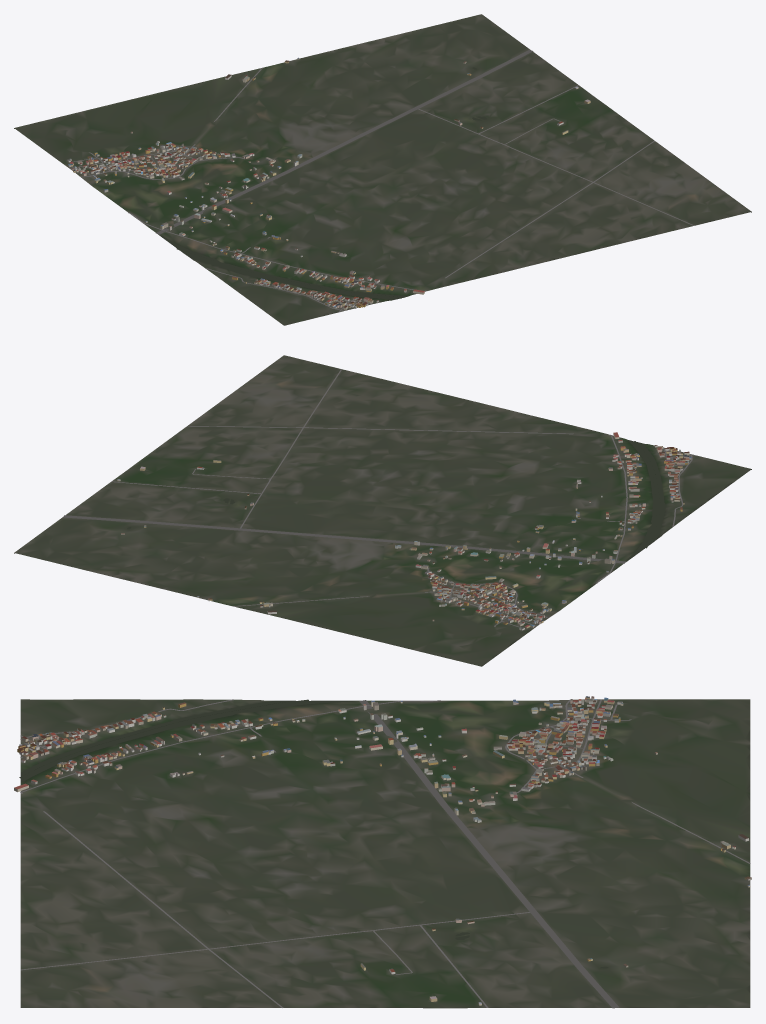
3 views of the same model, one above another, from view 1: azimuth 30°, elevation 25°; view 2: azimuth 150°, elevation 25°; view 3: azimuth 270°, elevation 25° (orthographic). The views are drawn at different scales.
Parts seen in each view (by area): view 1: ground, buildings, roads, water; view 2: ground, buildings, roads, water; view 3: ground, buildings, roads, water.
Part boxes in pixels (x1,y1,x2,y2): ground: (14, 14, 751, 325); buildings: (67, 57, 590, 310); roads: (69, 50, 694, 312); water: (159, 67, 486, 299); ground: (14, 355, 751, 666); buildings: (117, 432, 691, 630); roads: (63, 369, 696, 627); water: (127, 440, 665, 561); ground: (20, 699, 750, 1008); buildings: (14, 696, 751, 1005); roads: (20, 699, 750, 1008); water: (19, 699, 608, 968).
Bounding box in the file's own units: 1408 × 16.11 × 1418.
